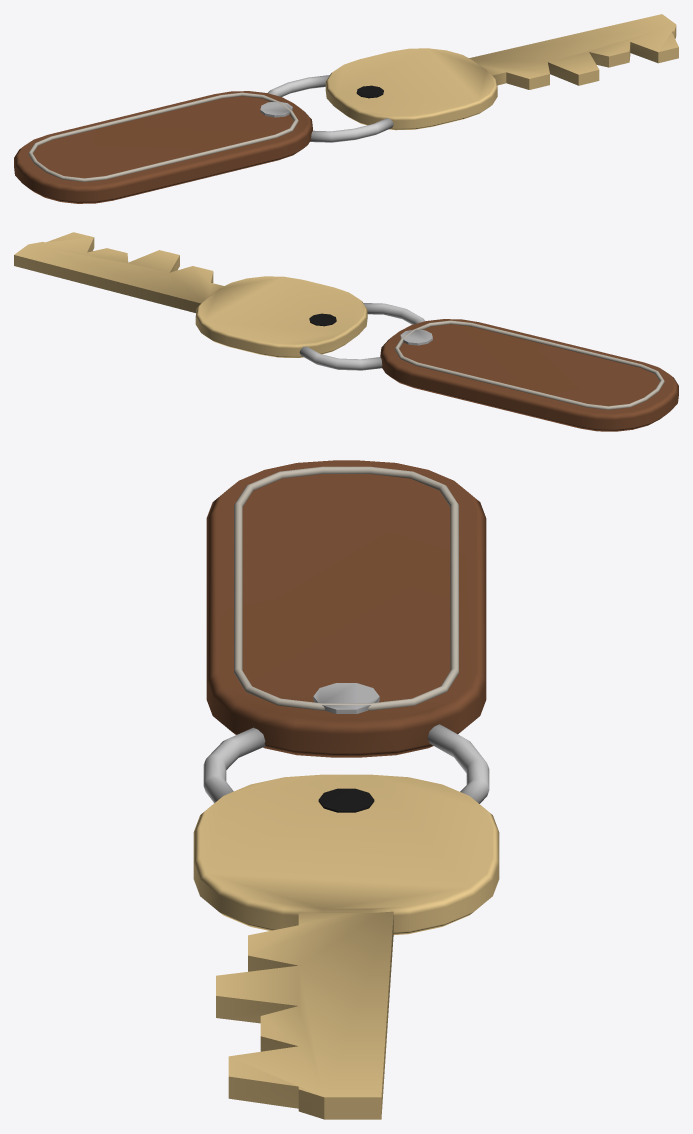
File: ix_key_office.gltf
3 views of the same model, one above another, from view 1: azimuth 30°, elevation 25°; view 2: azimuth 150°, elevation 25°; view 3: azimuth 270°, elevation 25° (orthographic). The views are drawn at different scales.
Visible parts, largest first — view 1: IX_KeyOffice_Fob, IX_KeyOffice_Bow, IX_KeyOffice_Blade, IX_KeyOffice_Stitch, IX_KeyOffice_Ring, IX_KeyOffice_Eyelet; view 2: IX_KeyOffice_Fob, IX_KeyOffice_Bow, IX_KeyOffice_Blade, IX_KeyOffice_Stitch, IX_KeyOffice_Ring, IX_KeyOffice_Eyelet; view 3: IX_KeyOffice_Fob, IX_KeyOffice_Bow, IX_KeyOffice_Blade, IX_KeyOffice_Stitch, IX_KeyOffice_Ring, IX_KeyOffice_Eyelet, IX_KeyOffice_Hole.
Part boxes in pixels (x1=…): IX_KeyOffice_Fob: x1=14, y1=91, x2=312, y2=203; IX_KeyOffice_Bow: x1=325, y1=48, x2=497, y2=130; IX_KeyOffice_Blade: x1=469, y1=14, x2=678, y2=89; IX_KeyOffice_Stitch: x1=28, y1=92, x2=298, y2=181; IX_KeyOffice_Ring: x1=267, y1=75, x2=393, y2=142; IX_KeyOffice_Eyelet: x1=260, y1=101, x2=292, y2=117; IX_KeyOffice_Fob: x1=380, y1=319, x2=678, y2=431; IX_KeyOffice_Bow: x1=195, y1=276, x2=367, y2=357; IX_KeyOffice_Blade: x1=14, y1=232, x2=224, y2=312; IX_KeyOffice_Stitch: x1=394, y1=320, x2=664, y2=409; IX_KeyOffice_Ring: x1=299, y1=303, x2=425, y2=370; IX_KeyOffice_Eyelet: x1=400, y1=329, x2=432, y2=345; IX_KeyOffice_Fob: x1=206, y1=460, x2=486, y2=757; IX_KeyOffice_Bow: x1=193, y1=774, x2=499, y2=934; IX_KeyOffice_Blade: x1=216, y1=911, x2=393, y2=1119; IX_KeyOffice_Stitch: x1=234, y1=466, x2=458, y2=710; IX_KeyOffice_Ring: x1=203, y1=724, x2=489, y2=803; IX_KeyOffice_Eyelet: x1=313, y1=683, x2=379, y2=713; IX_KeyOffice_Hole: x1=318, y1=788, x2=374, y2=812.
Bounding box in the file's own units: 0.117 × 0.00378 × 0.024.
